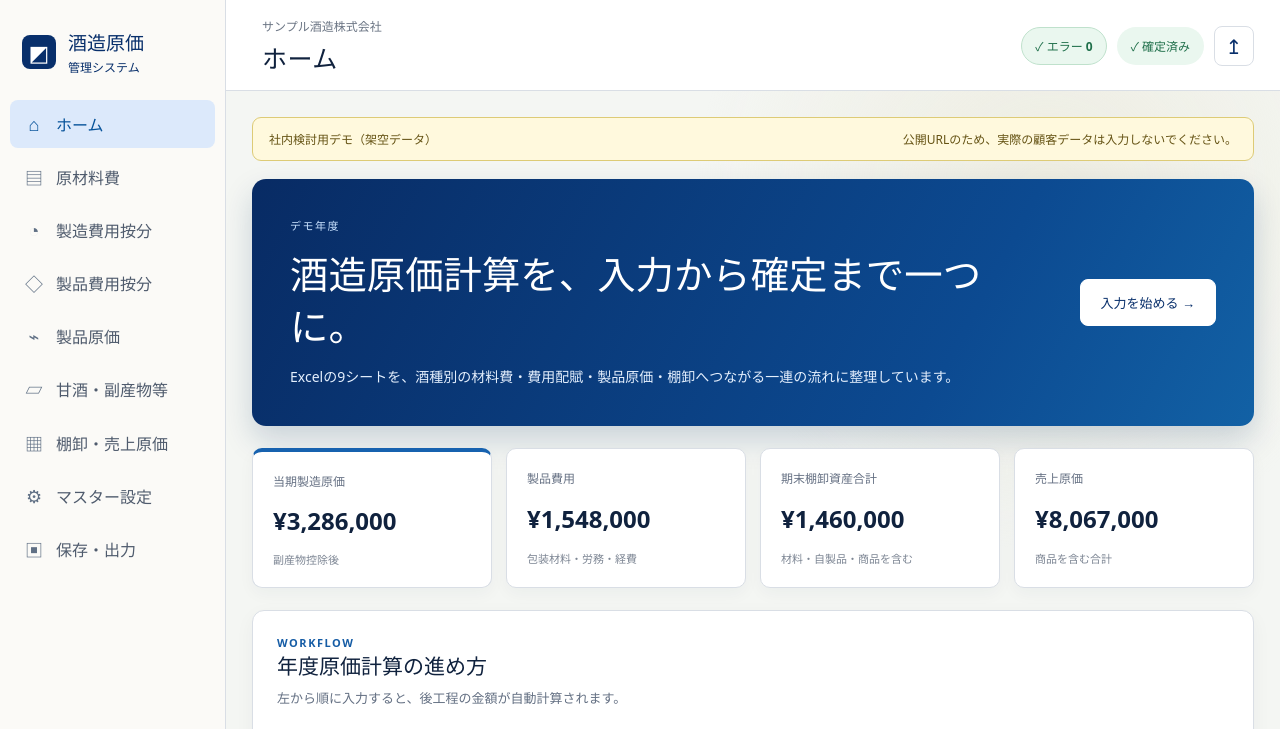
Test: 主要画面スモーク › 確定済みデータではJSON復元とデモ上書きを無効にする
Click the button "▣ 保存・出力": (112, 549) [10, 524, 215, 574]
(page scrolled)
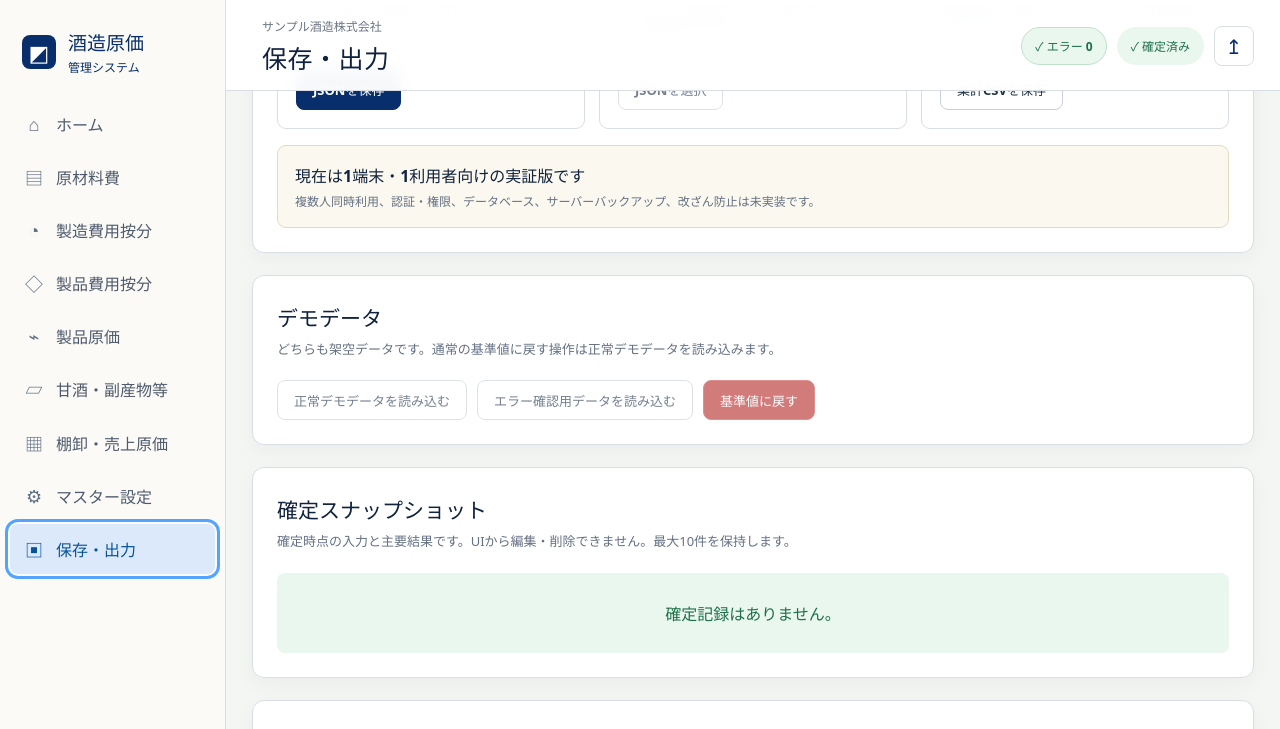
Expected: the button "JSONを選択" is disabled, [618, 70, 723, 110]
Expected: the button "正常デモデータを読み込む" is disabled, [277, 380, 467, 420]
Expected: the button "エラー確認用データを読み込む" is disabled, [477, 380, 693, 420]
